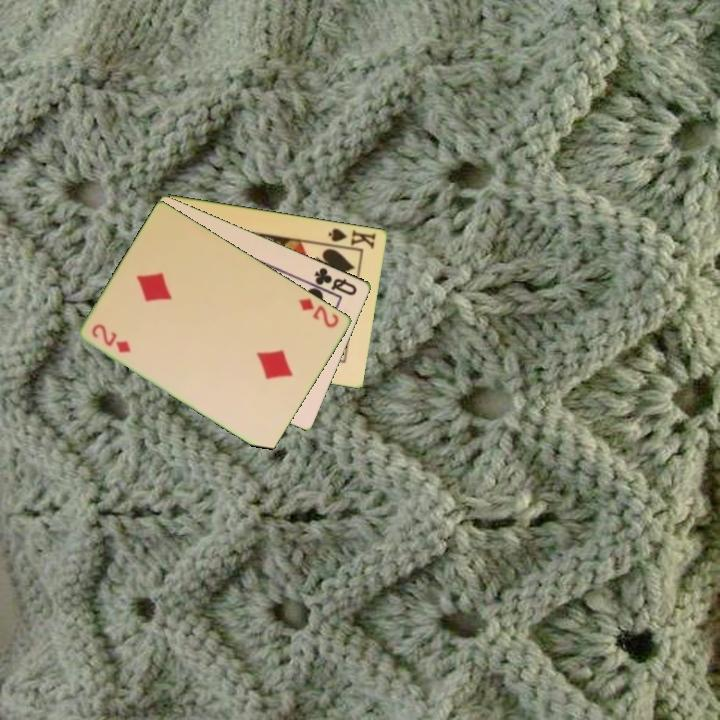2d: (295, 294, 342, 331), (88, 320, 134, 356)
Ks: (323, 224, 379, 252)
Qc: (311, 264, 360, 298)
